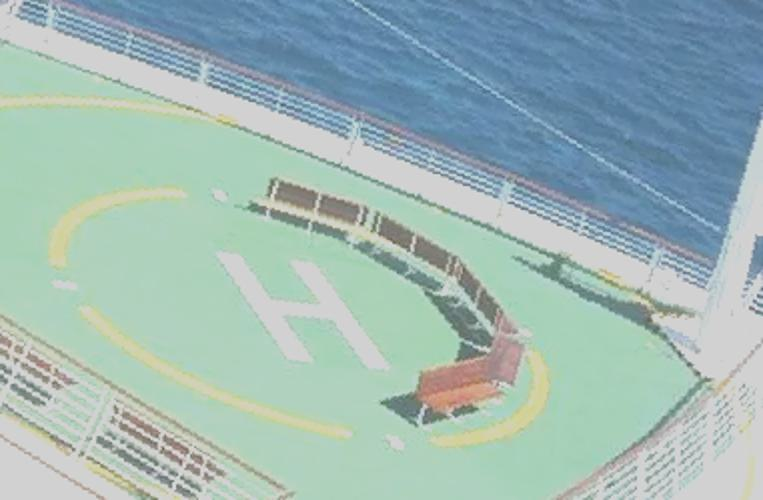Apron: (61, 158, 553, 447)
